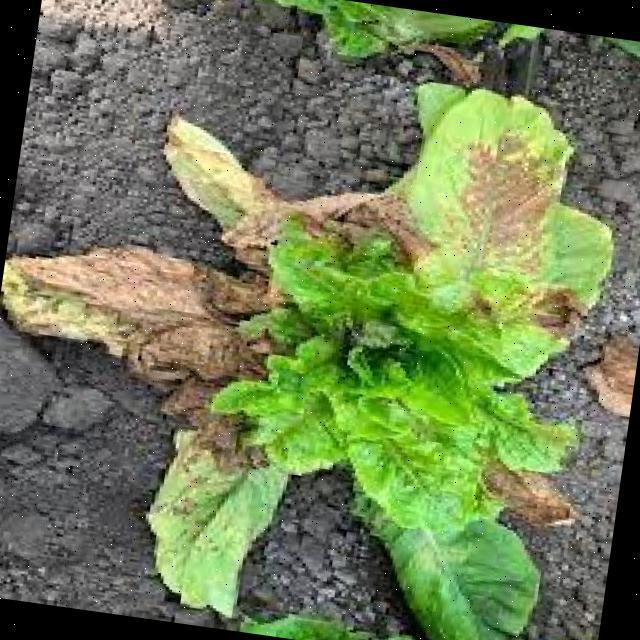Lettuce Mosaic Virus: (117, 259, 369, 432), (404, 118, 583, 307)
